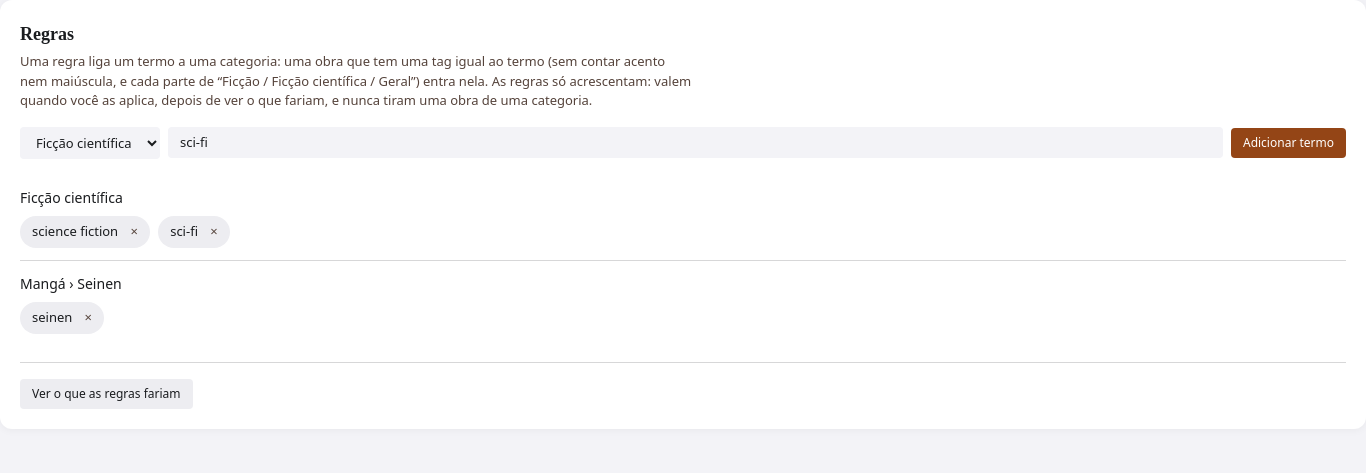
Scenario: CategoryRules: the terms › says why a term was refused, in Portuguese, and keeps what was typed
Click the button "Adicionar termo" at (1288, 142), box [1231,128,1346,158]
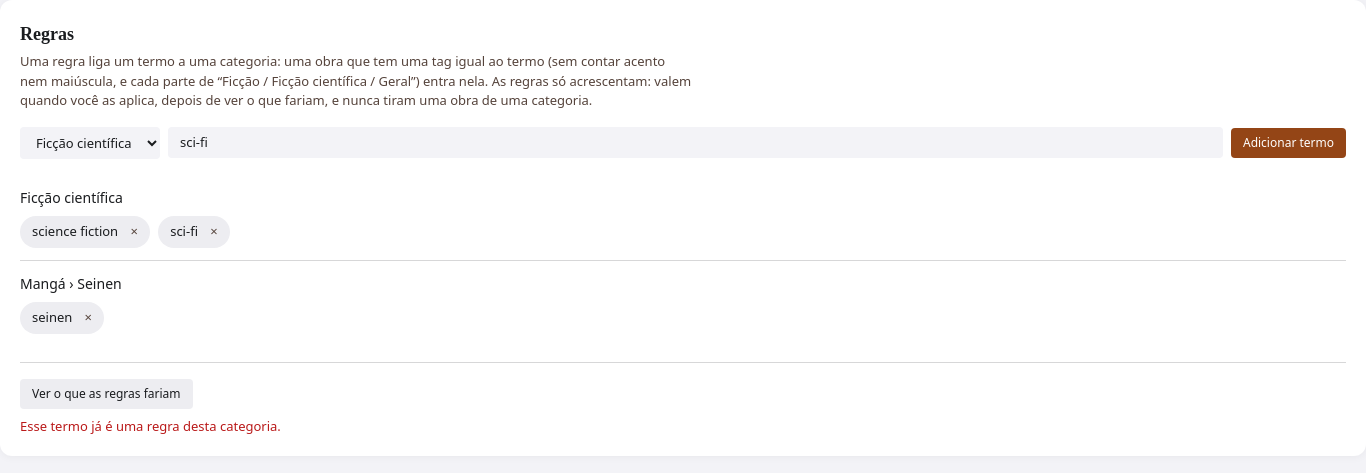
Result: the message "Esse termo já é uma regra desta categoria." is shown at [20,416,281,434]
